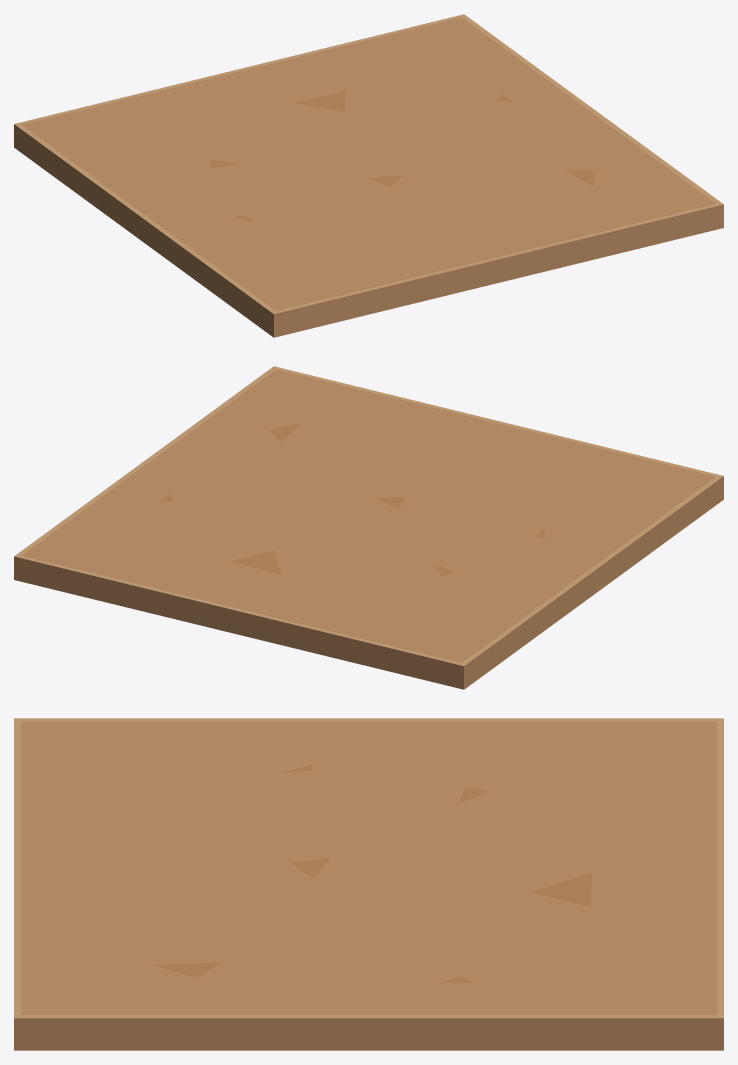
Rendered from ConcrateSlabs_E_1_3.glb.
3 views of the same model, one above another, from view 1: azimuth 30°, elevation 25°; view 2: azimuth 150°, elevation 25°; view 3: azimuth 270°, elevation 25° (orthographic). The views are drawn at different scales.
Parts seen in each view (by area): view 1: ConcrateSlabs_E_1_3; view 2: ConcrateSlabs_E_1_3; view 3: ConcrateSlabs_E_1_3.
Boxes of the visible parts, x1,y1,x2,y2 form: ConcrateSlabs_E_1_3: (14, 14, 723, 337); ConcrateSlabs_E_1_3: (14, 366, 723, 689); ConcrateSlabs_E_1_3: (14, 718, 723, 1050).
Size of the model in its own units: 8 by 0.4 by 8.
Materials: 1 (1 with a texture image).
